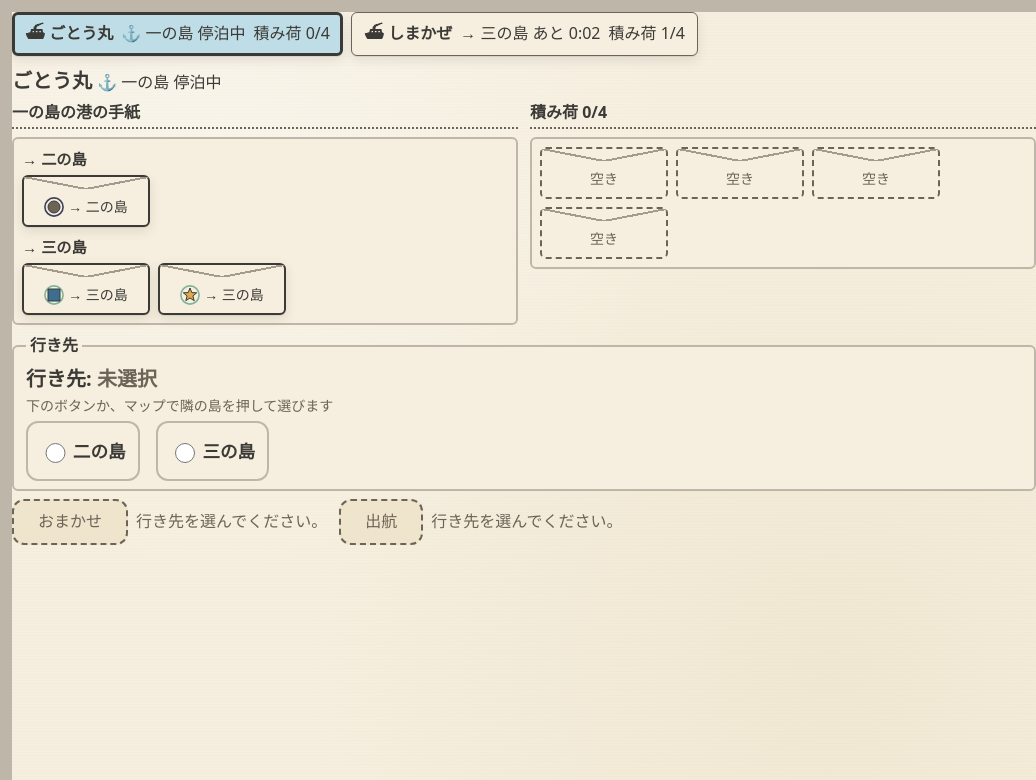
Scenario: FerryPanel › FP-3 港の手紙を押して積む: 表示はイベントで変わる
Expected: the number of list items "空き" is 4, top-left (540, 147), bottom-right (668, 199); top-left (676, 147), bottom-right (804, 199); top-left (812, 147), bottom-right (940, 199); top-left (540, 207), bottom-right (668, 259)
Click the button with aria-label "お元気ですか？（→ 二の島）を積む" at (86, 201), box top-left (22, 175), bottom-right (150, 227)
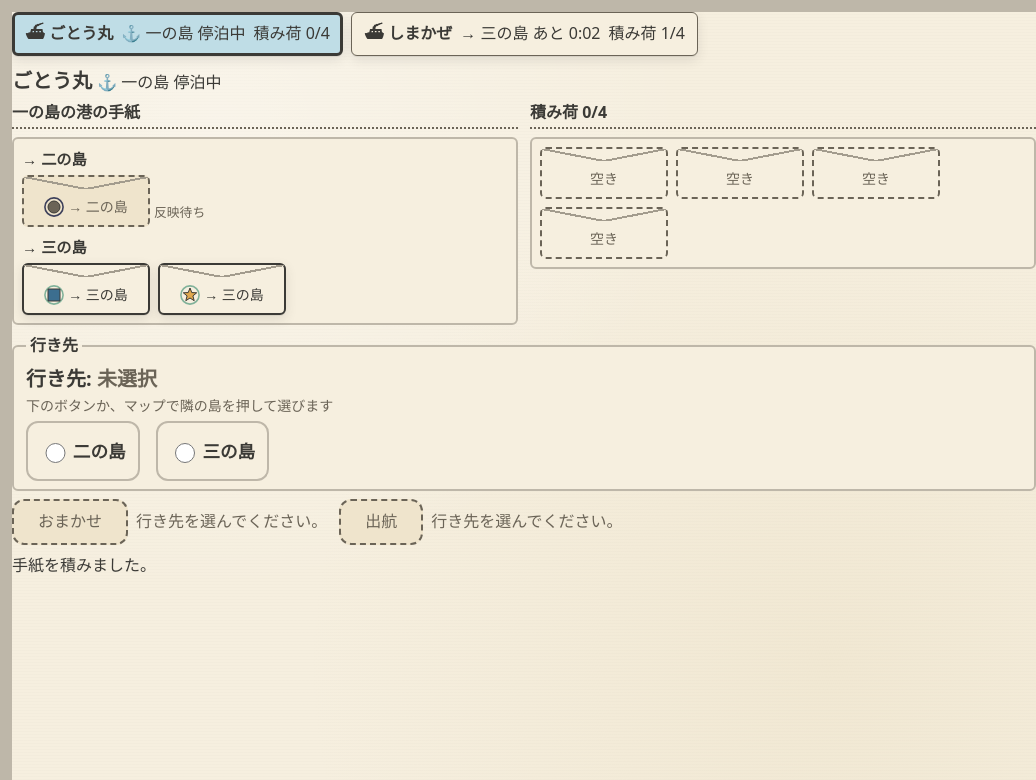
Result: the text "反映待ち" is shown at top-left (154, 203), bottom-right (205, 221)
Result: the message with class "ferry-panel__status" reads "手紙を積みました。" at top-left (12, 554), bottom-right (156, 576)
Click the button with aria-label "お元気ですか？（→ 二の島）を積む" at (86, 201), box top-left (22, 175), bottom-right (150, 227)
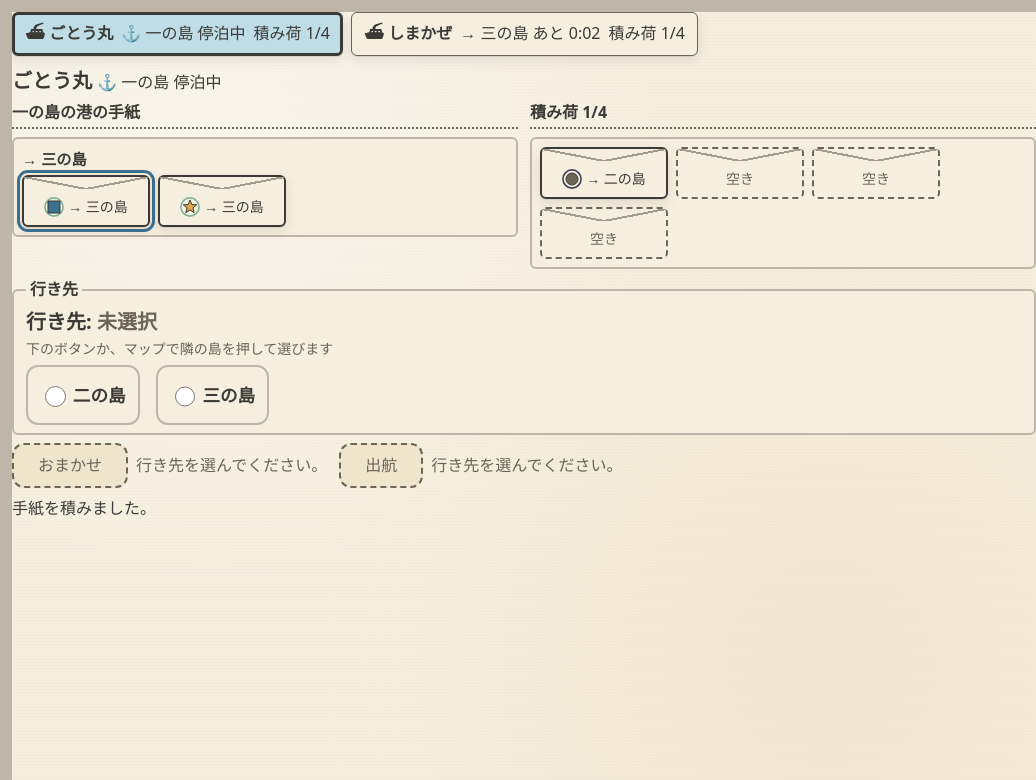
Expected: the number of list items "空き" is 3, top-left (676, 147), bottom-right (804, 199); top-left (812, 147), bottom-right (940, 199); top-left (540, 207), bottom-right (668, 259)
Result: the heading "積み荷 1/4" is shown at top-left (530, 102), bottom-right (1035, 129)
Result: the text "反映待ち" is gone
